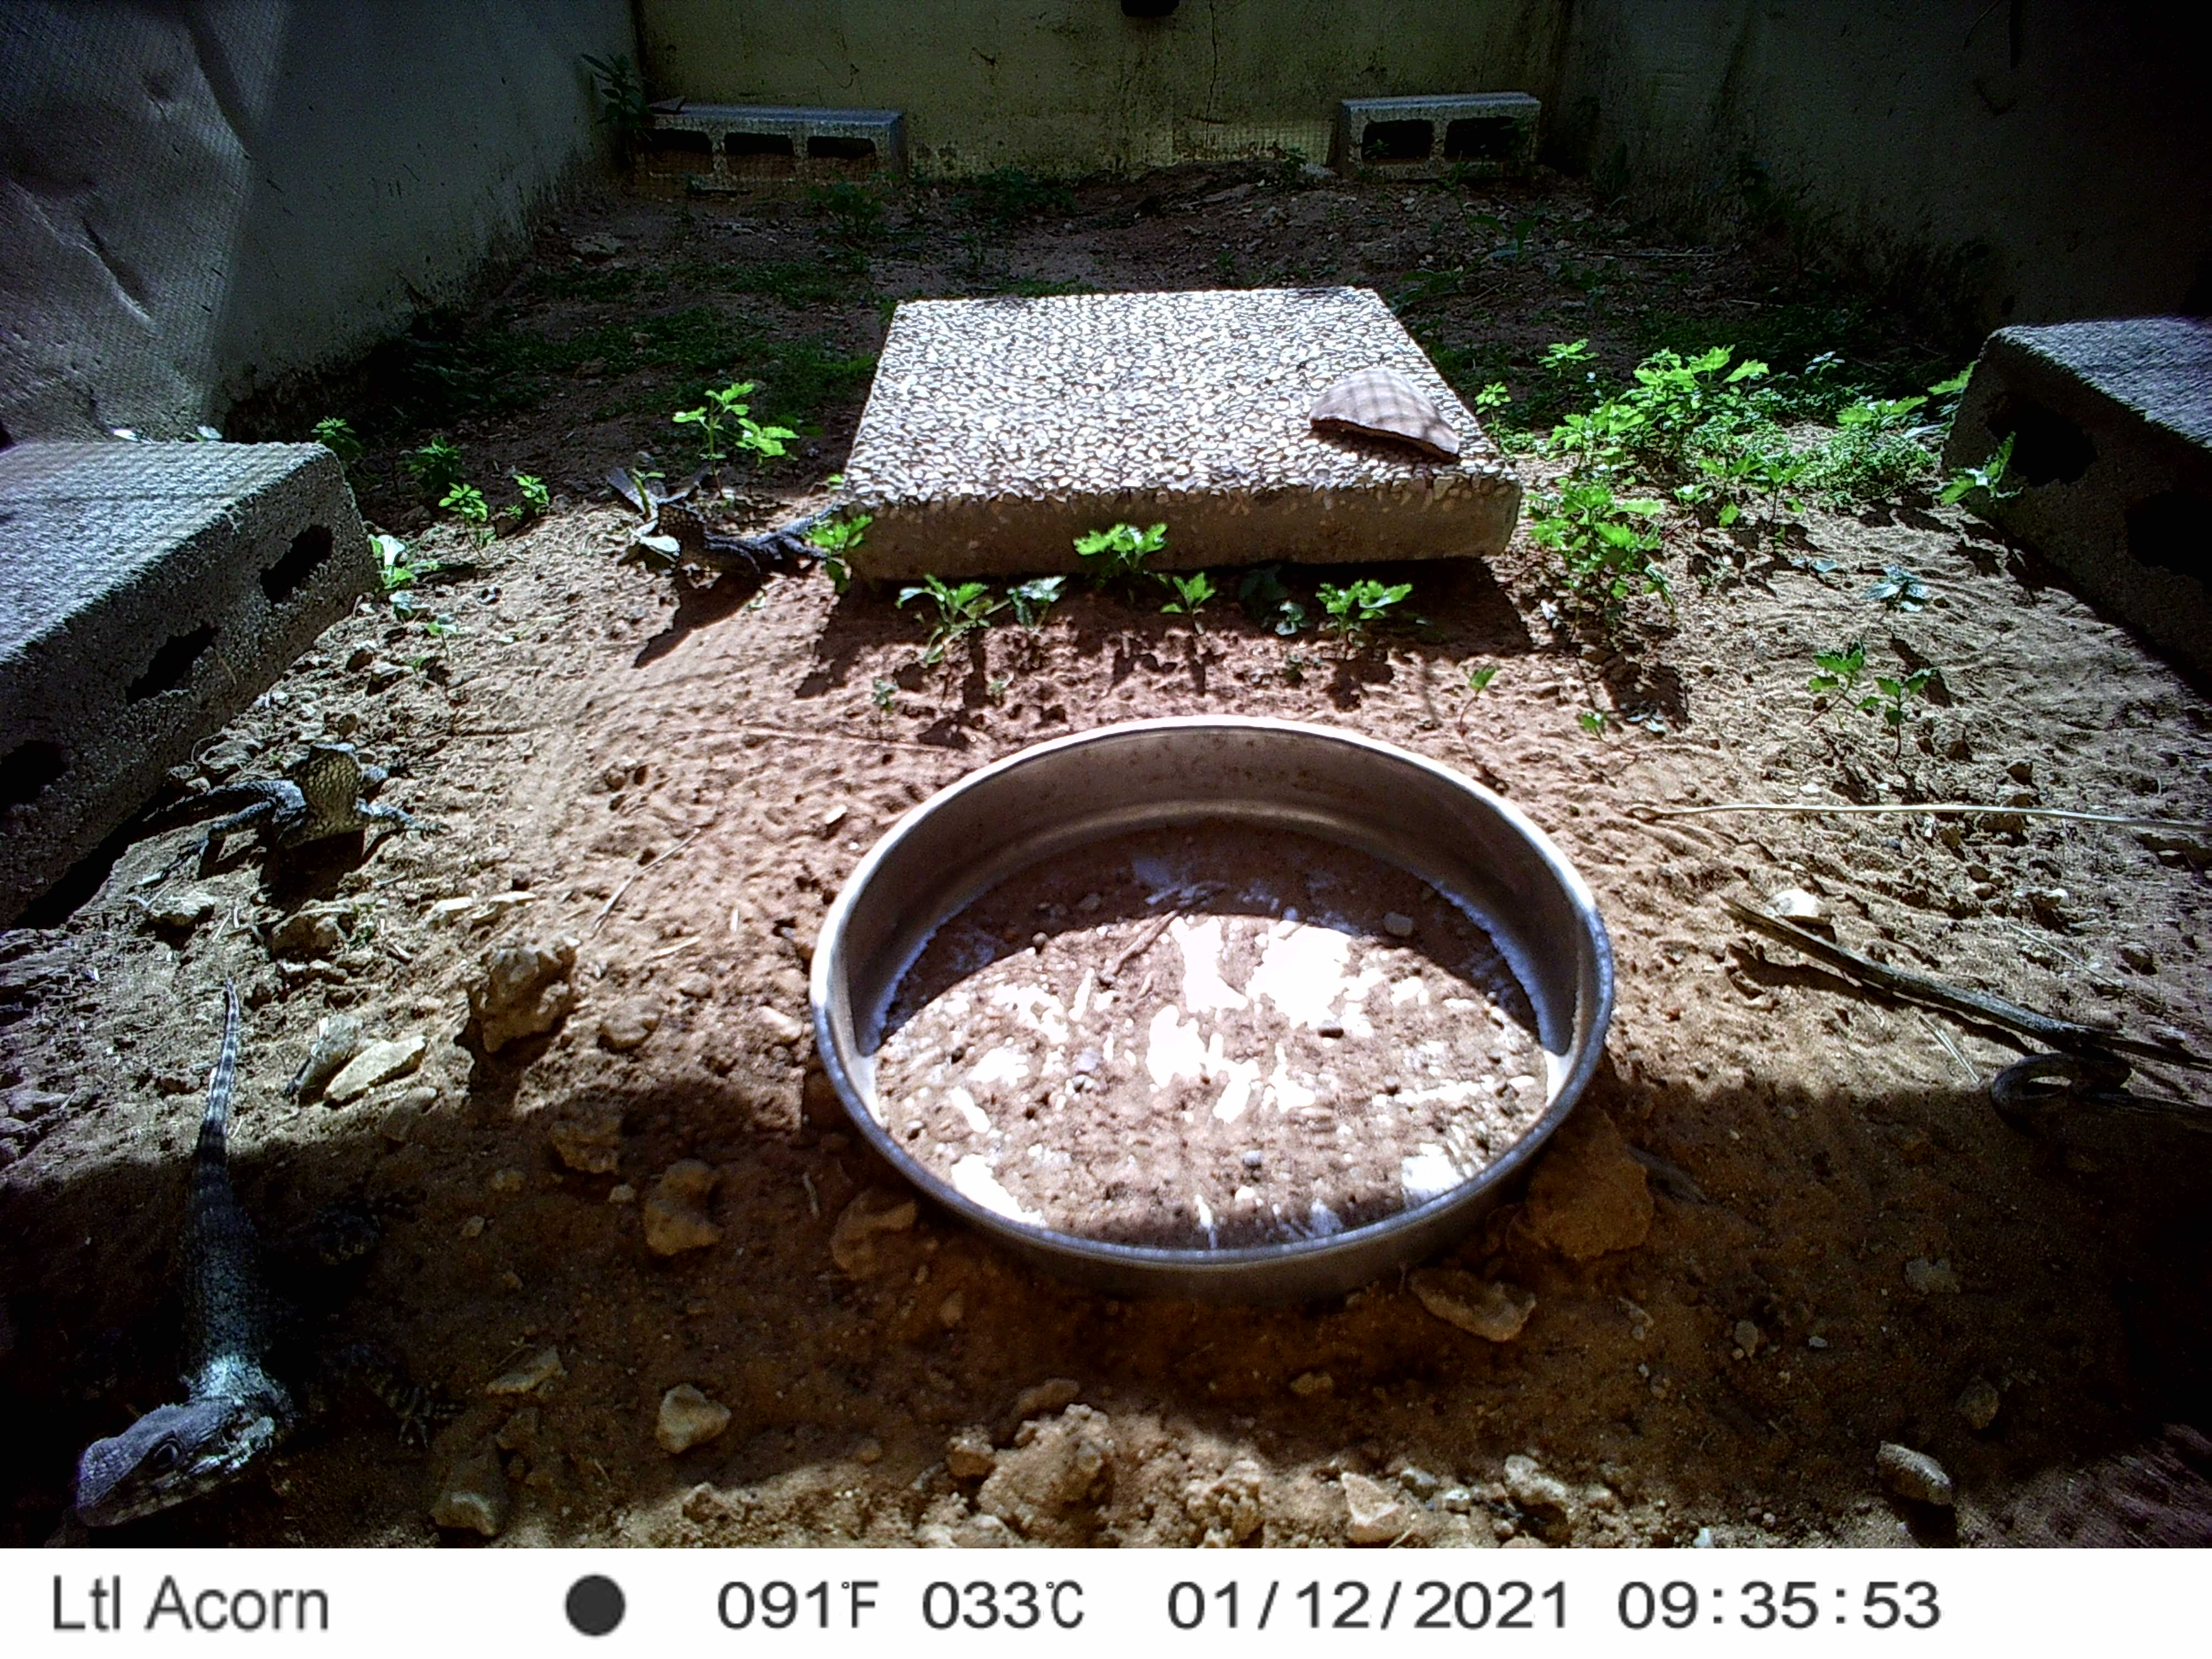lizard: (54, 964, 448, 1546), (127, 742, 448, 882), (653, 488, 862, 627)
